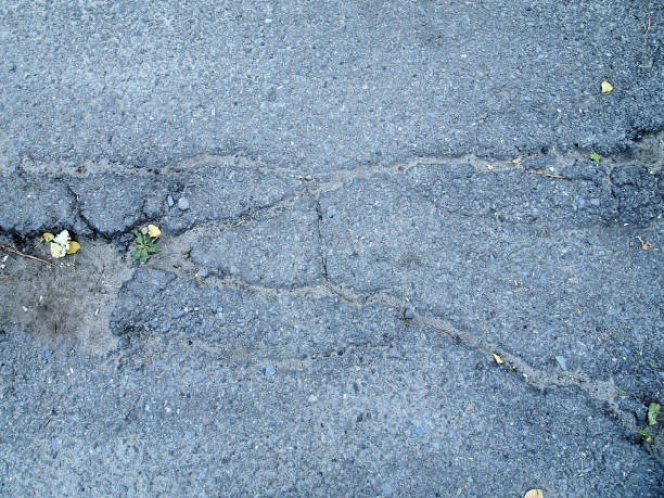Berlubang: (468, 314, 664, 473), (1, 198, 173, 362), (468, 113, 664, 202)
